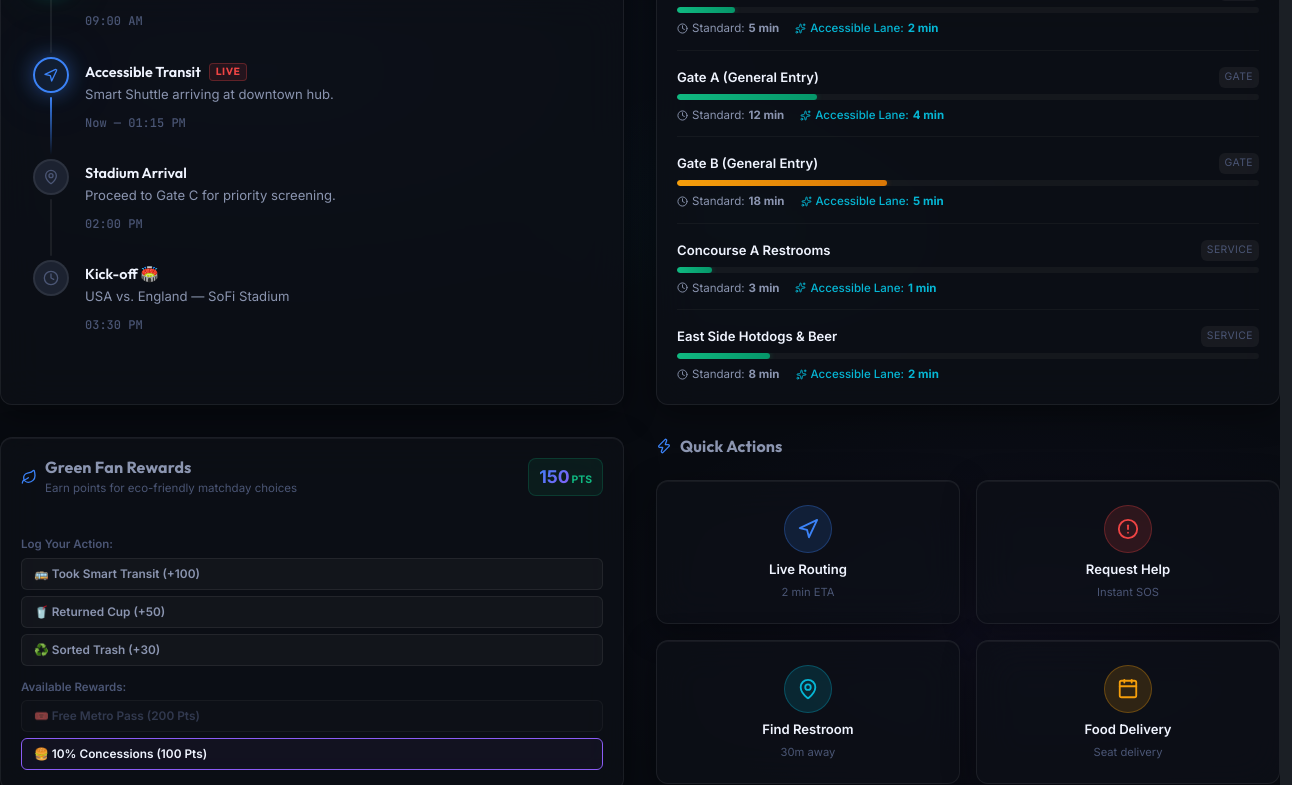
Scenario: Dashboard Page › claiming a reward the fan can afford shows the active reward badge
(page scrolled)
Click the button "🍔 10% Concessions (100 Pts)". click: [121, 754]
box: [21,738,603,770]
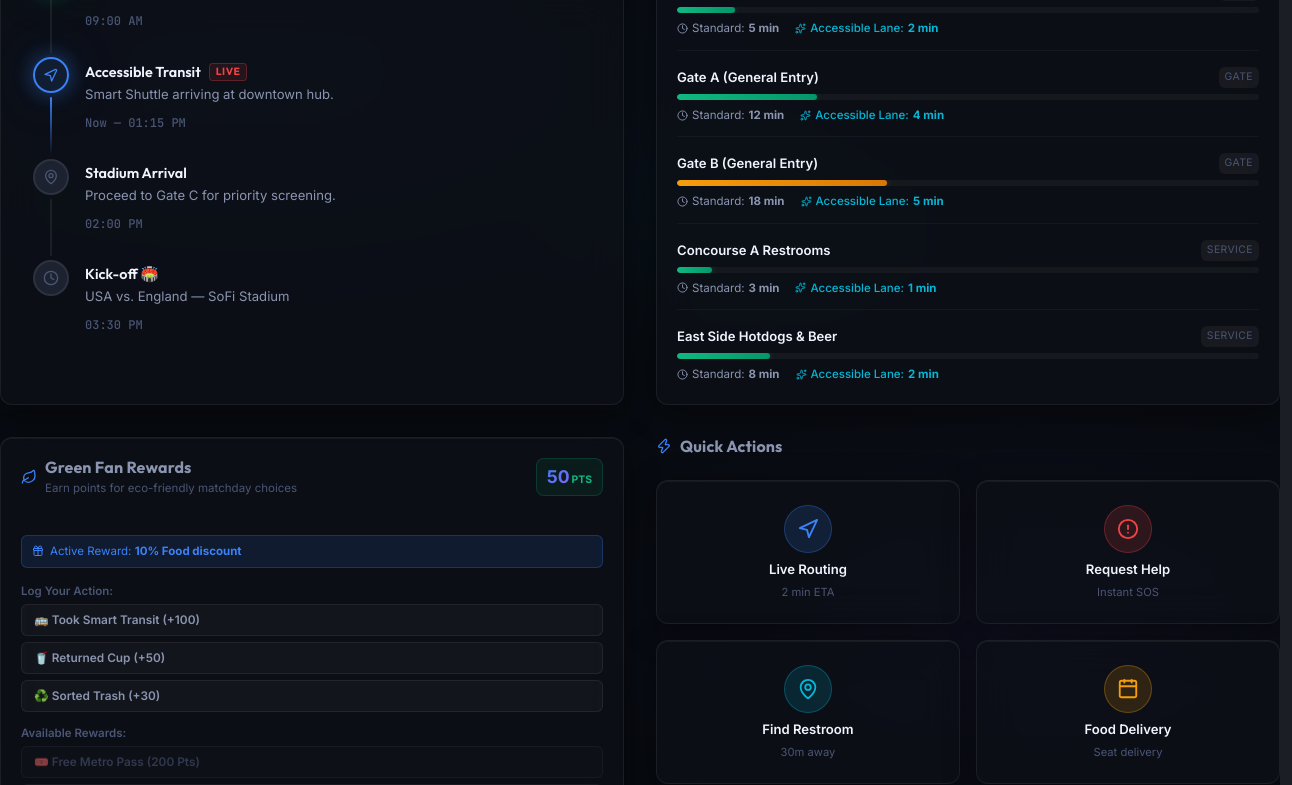
Check: the text "Active Reward: 10% Food discount" is shown, box [50,542,242,561]
